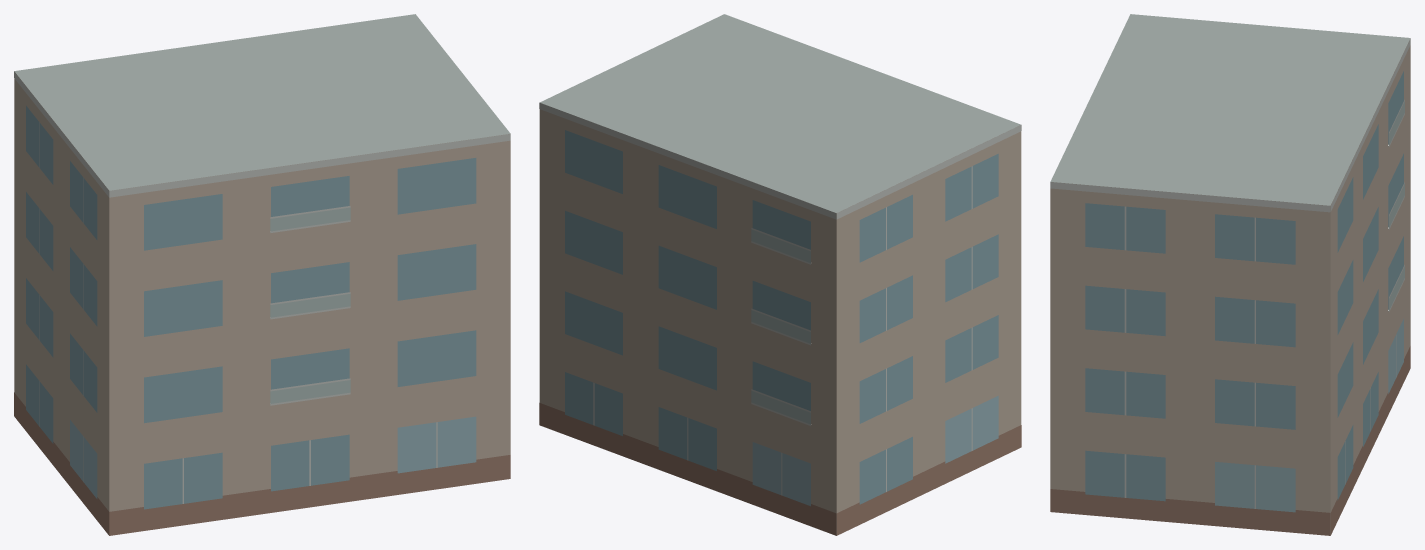
The model's file is residential-27e5e036-99a8-4178-947e-7d28befe8f9b.glb.
The picture shows the model from 3 angles, left to right: view 1: azimuth 30°, elevation 25°; view 2: azimuth 150°, elevation 25°; view 3: azimuth 270°, elevation 25°; orthographic projection. The views are drawn at different scales.
Parts seen in each view (by area): view 1: residential-27e5e036-99a8-4178-947e-7d28befe8f9b.tmp; view 2: residential-27e5e036-99a8-4178-947e-7d28befe8f9b.tmp; view 3: residential-27e5e036-99a8-4178-947e-7d28befe8f9b.tmp.
Boxes of the visible parts, x1,y1,x2,y2 form: residential-27e5e036-99a8-4178-947e-7d28befe8f9b.tmp: [14, 14, 510, 535]; residential-27e5e036-99a8-4178-947e-7d28befe8f9b.tmp: [539, 14, 1021, 535]; residential-27e5e036-99a8-4178-947e-7d28befe8f9b.tmp: [1050, 14, 1410, 535].
Size of the model in its own units: 15.21 by 12.2 by 12.08.
